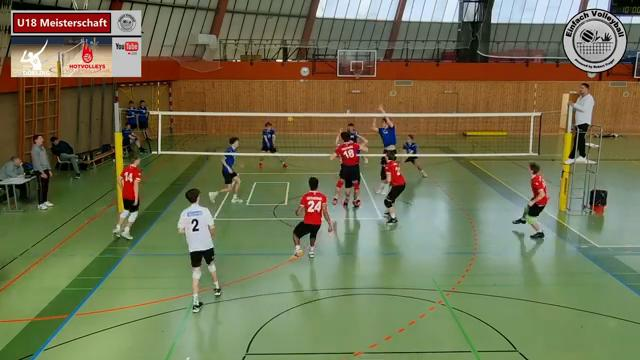attacco: (328, 127, 370, 212)
